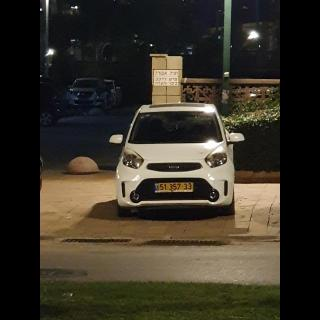LicensePlate: (159, 183, 193, 191)
